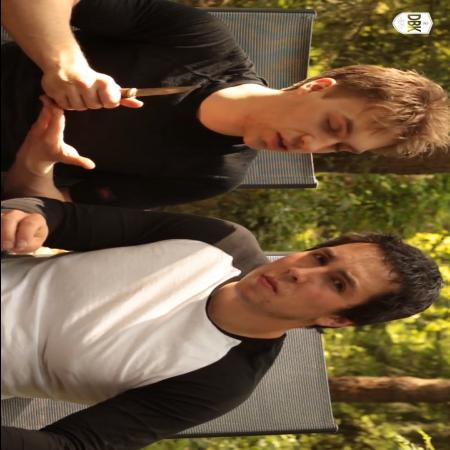long weapon: (70, 63, 222, 117)
